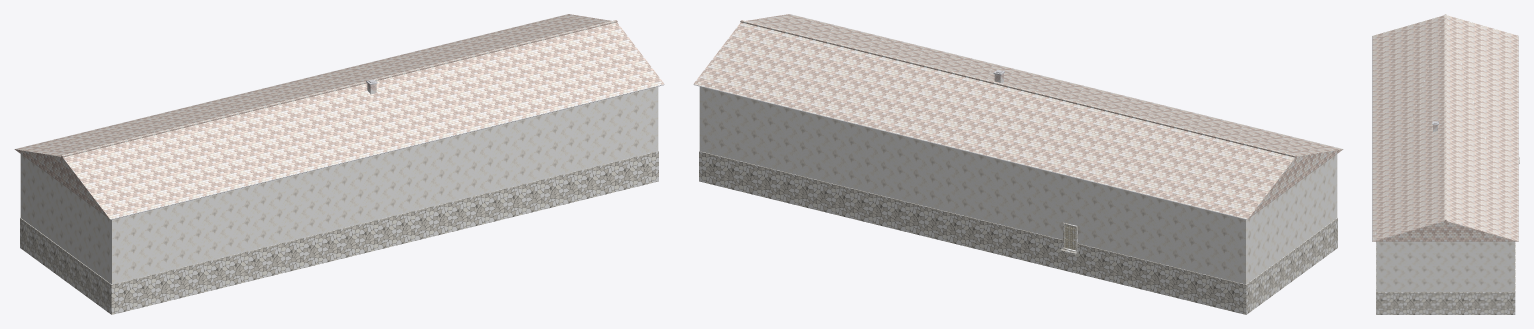
The picture shows the model from 3 angles, left to right: view 1: azimuth 30°, elevation 25°; view 2: azimuth 150°, elevation 25°; view 3: azimuth 270°, elevation 25°; orthographic projection. The views are drawn at different scales.
Parts seen in each view (by area): view 1: b1085383210; view 2: b1085383210; view 3: b1085383210.
Part boxes in pixels (box(x1,y1,x2,y2)): b1085383210: box(14, 14, 664, 314); b1085383210: box(693, 14, 1343, 314); b1085383210: box(1372, 14, 1519, 314).
Size of the model in its own units: 47.92 by 10.91 by 14.46.
Materials: 14 (14 with a texture image).
